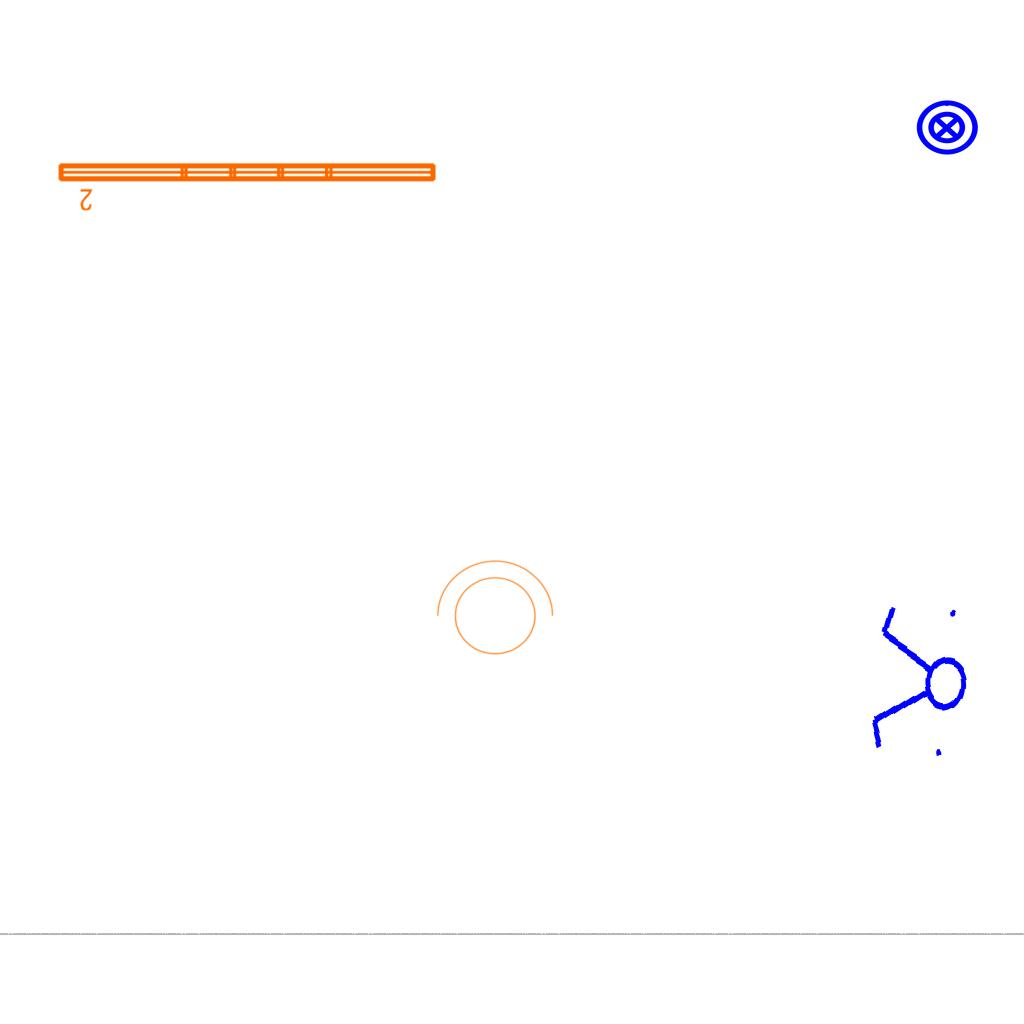Ambulanz_Pendelleuchte_LED: (54, 157, 441, 213)
Scheinwerfer_fuer_Alarmbeleuchtung: (426, 555, 558, 667)
Serienschalter: (863, 593, 977, 771)
Taster_beleuchtet: (914, 95, 980, 161)
